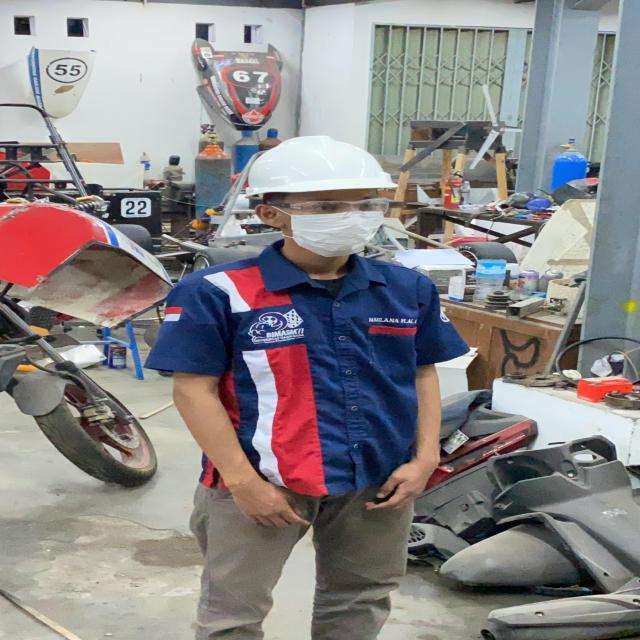glasses: (275, 196, 395, 219)
